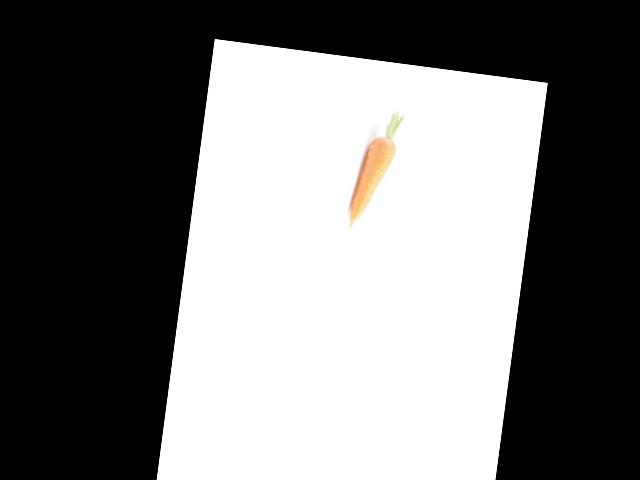carrot: (343, 132, 398, 233)
